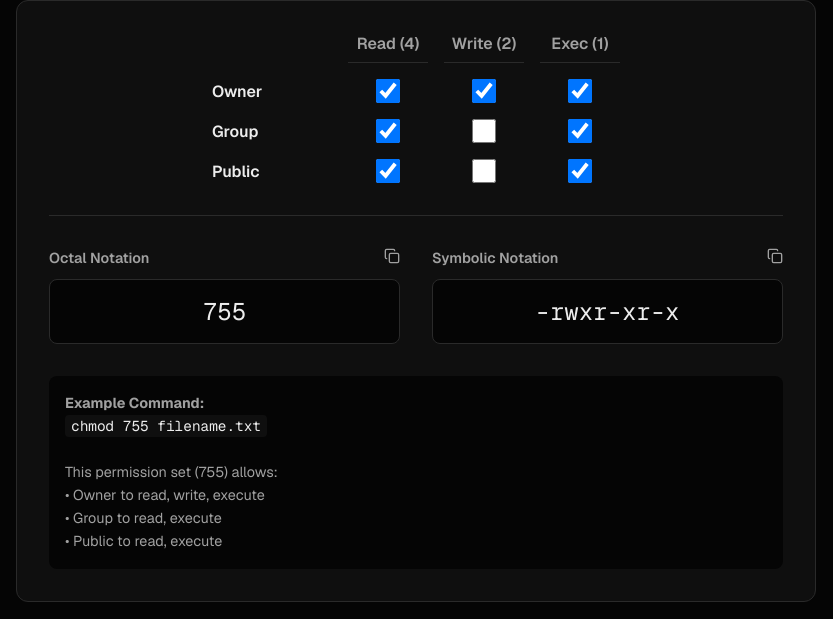
ChmodCalculator › updates checkboxes when octal input changes
Replace the text in the field showing "755" below "Octal Notation" with "777" at (224, 312), box x1=49 y1=279 x2=400 y2=344
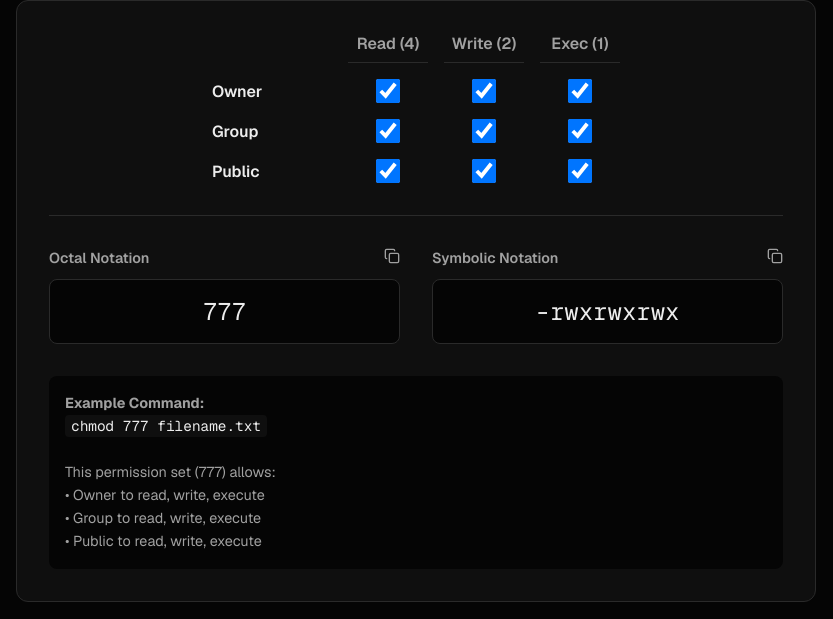
Expected: the 1st checkbox is checked, x1=376 y1=79 x2=400 y2=103
Result: the 5th checkbox is checked at x1=472 y1=119 x2=496 y2=143
Result: the 8th checkbox is checked at x1=472 y1=159 x2=496 y2=183
